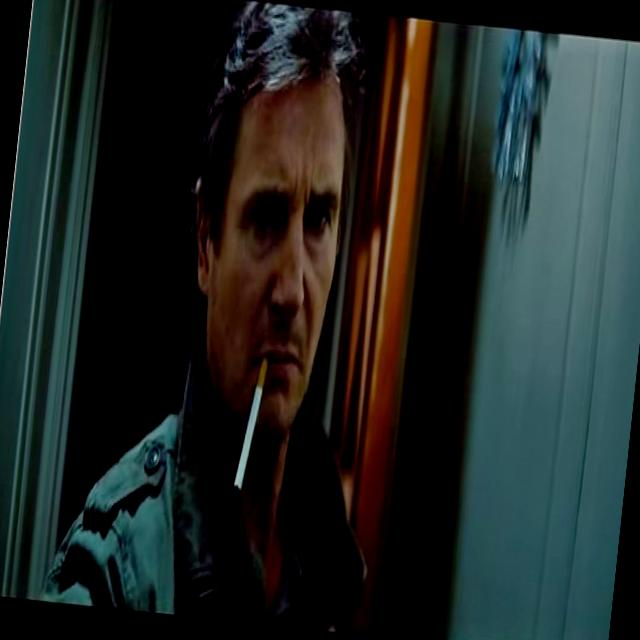cigarette: (232, 352, 270, 498)
